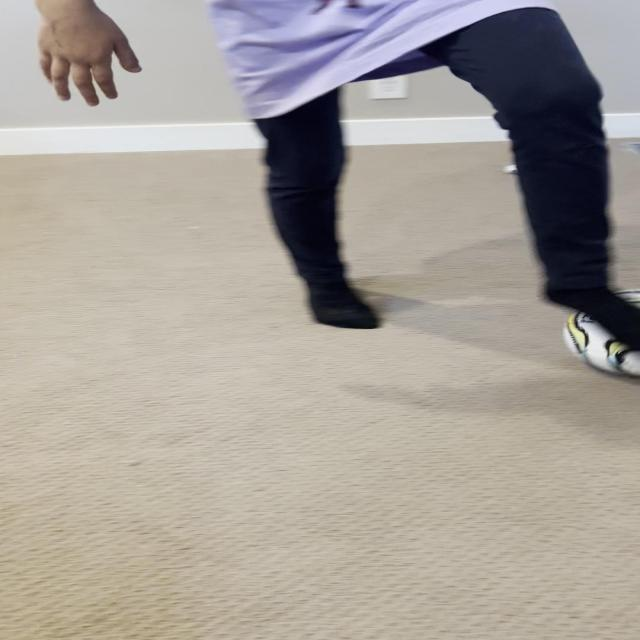Soccer Ball: (567, 287, 640, 376)
